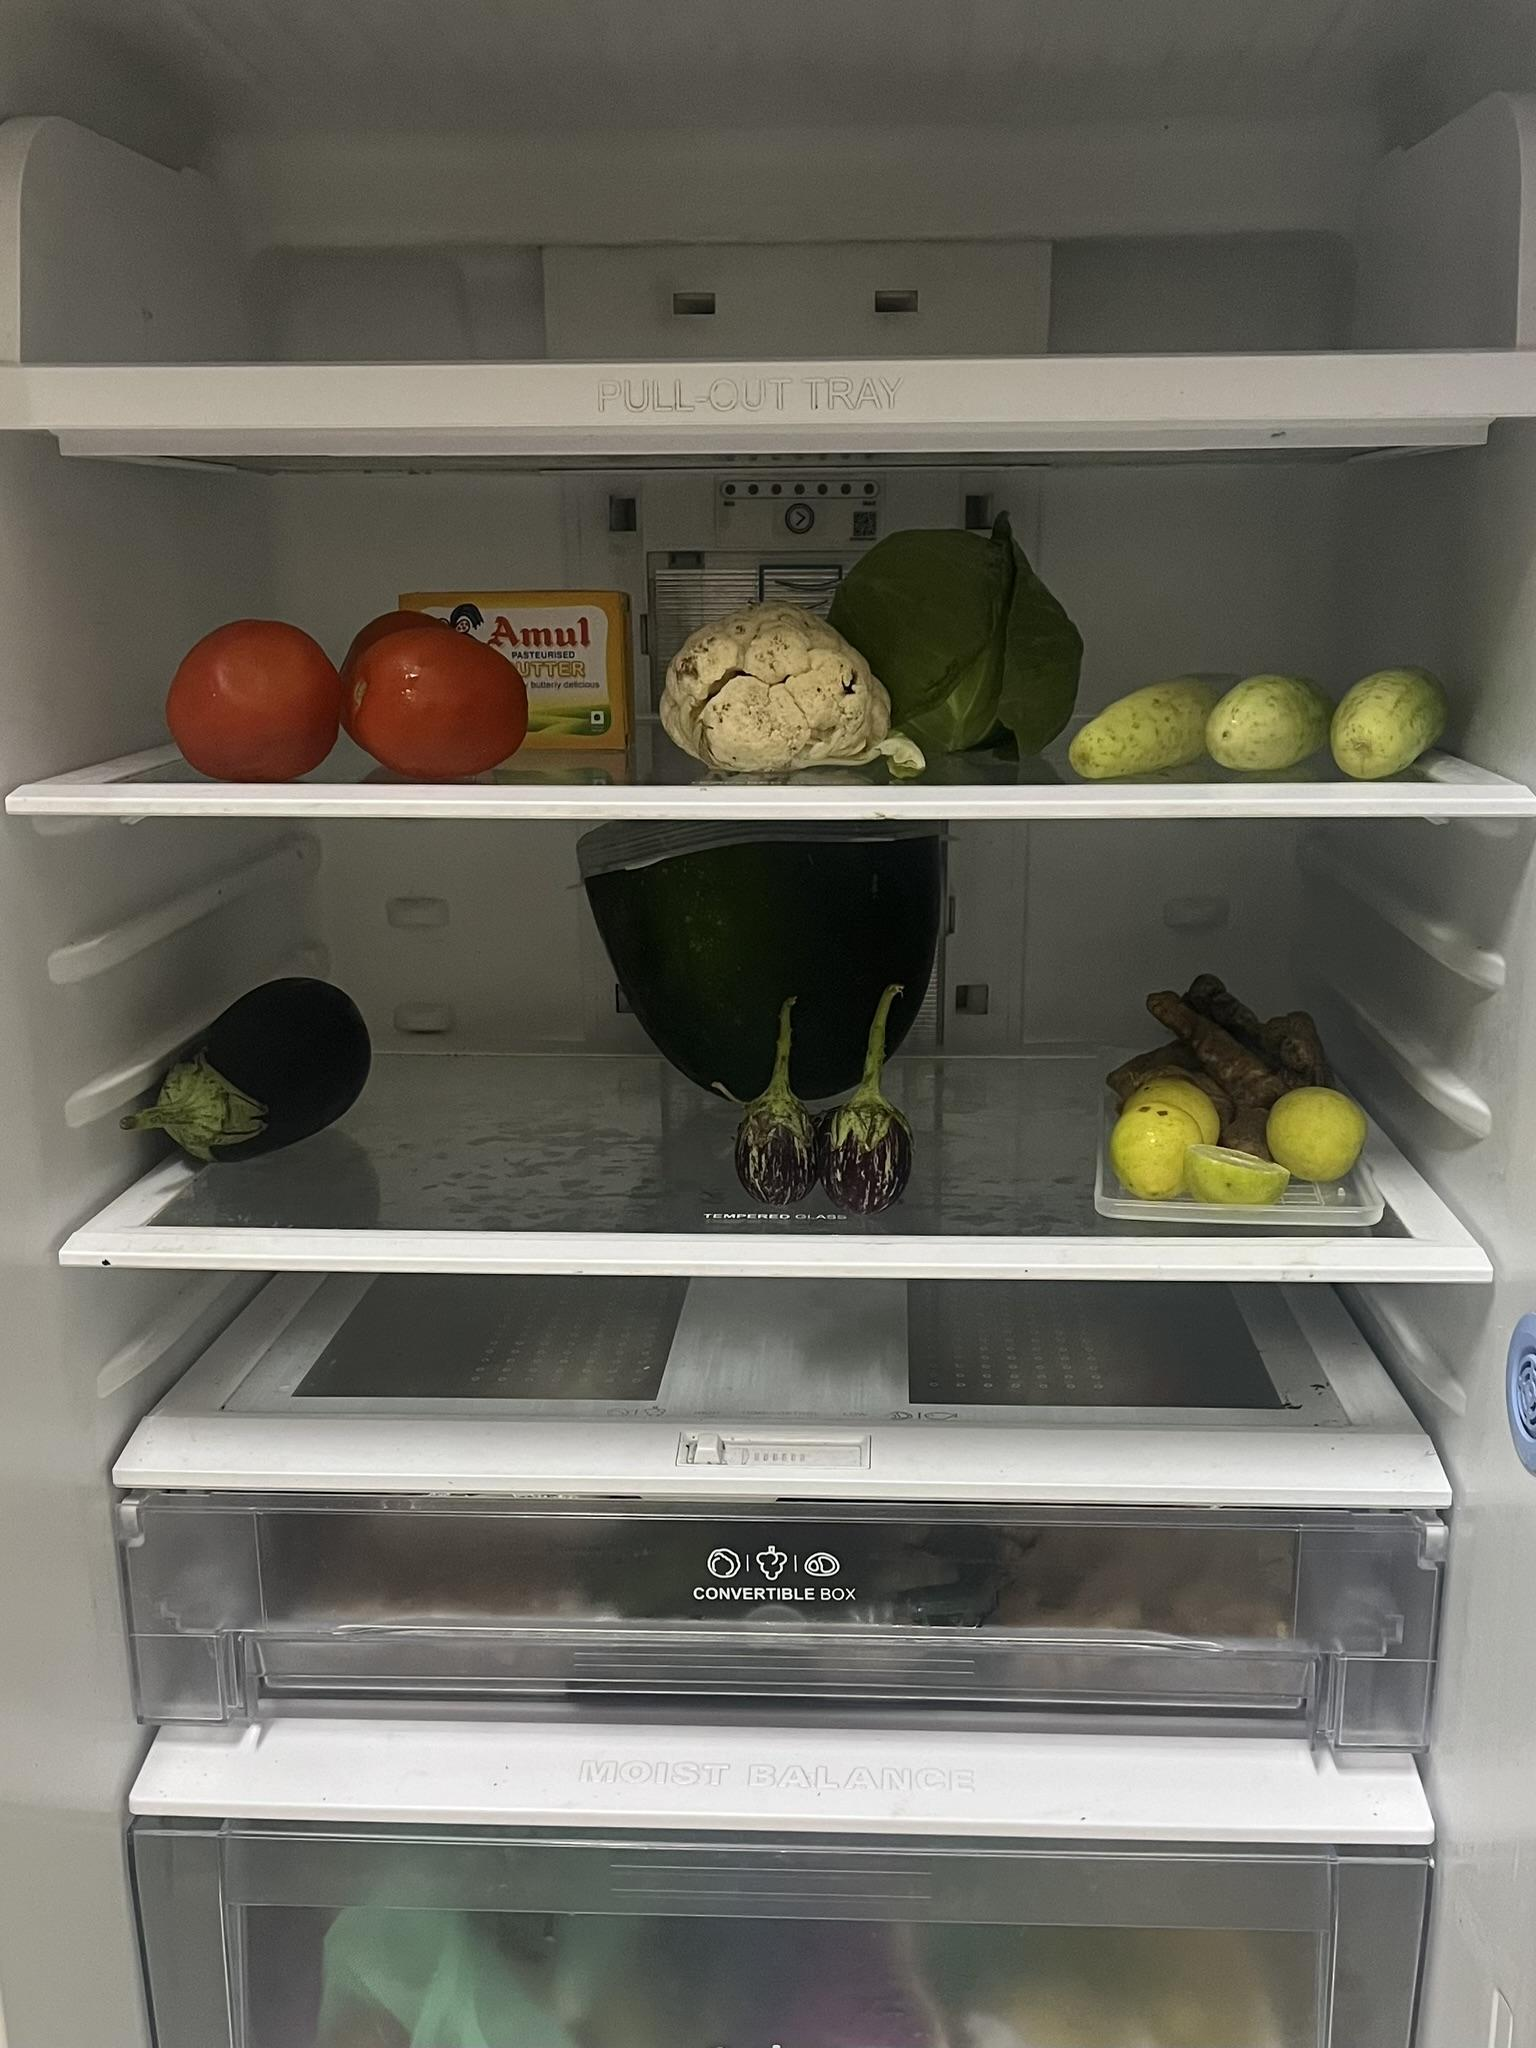bringal: (123, 977, 369, 1171), (737, 1000, 915, 1213)
butter: (431, 598, 637, 755)
cabbage: (829, 540, 1079, 748)
cauliflower: (658, 608, 895, 772)
cucumber: (1073, 672, 1465, 768)
ginger: (1107, 987, 1333, 1103)
lemon: (1102, 1072, 1357, 1218)
tomato: (163, 622, 529, 780)
watermelon: (568, 832, 950, 1108)
